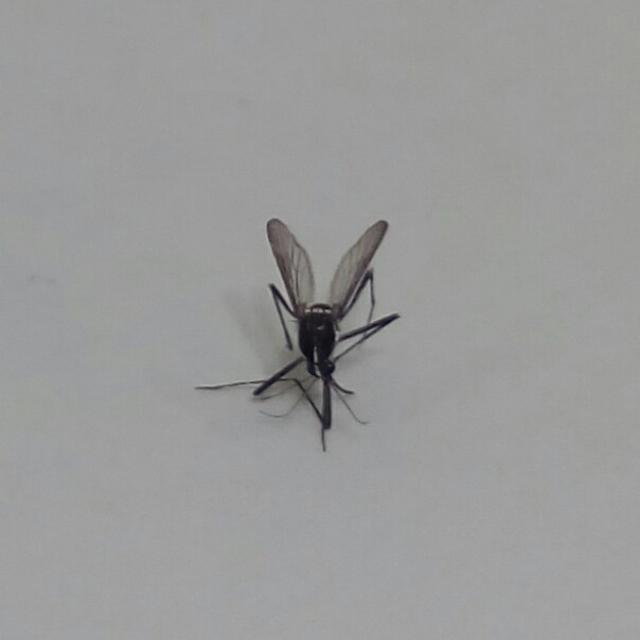albopictus: (183, 207, 408, 452)
